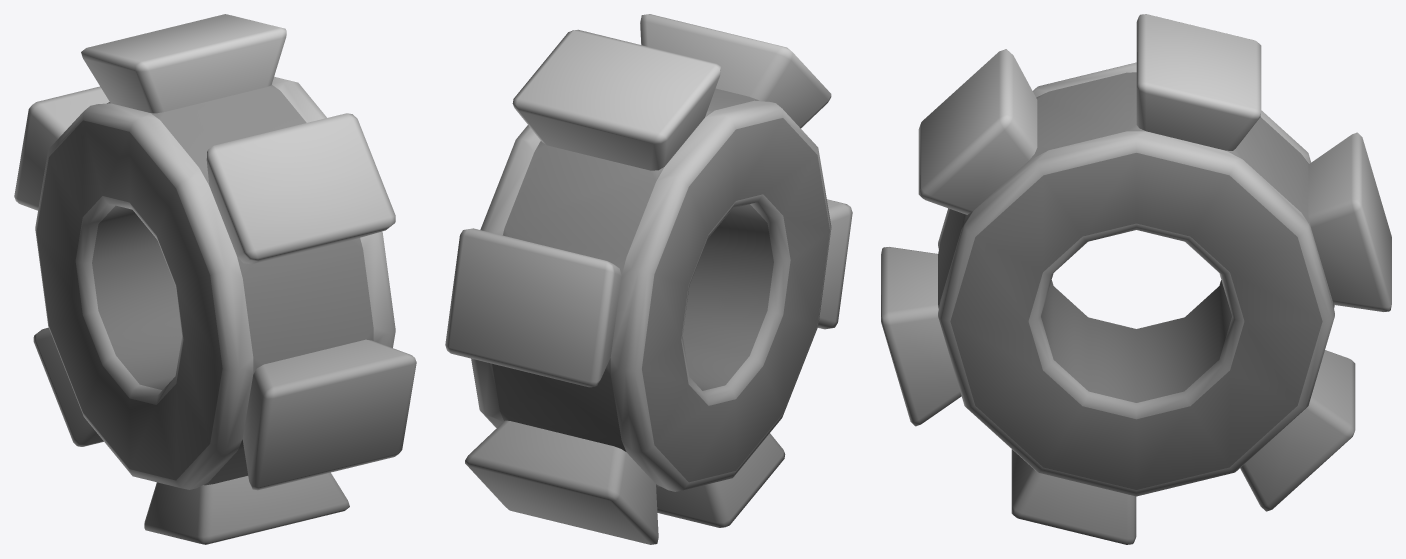
The model's file is Gear_V1_00.fbx.
3 renders of one model, left to right at view 1: azimuth 30°, elevation 25°; view 2: azimuth 150°, elevation 25°; view 3: azimuth 270°, elevation 25°, orthographic.
Visible parts, largest first — view 1: Gear_V1_00; view 2: Gear_V1_00; view 3: Gear_V1_00.
Boxes of the visible parts, x1=… form: Gear_V1_00: x1=14, y1=14, x2=416, y2=544; Gear_V1_00: x1=445, y1=14, x2=852, y2=544; Gear_V1_00: x1=881, y1=14, x2=1391, y2=544.
Size of the model in its own units: 15.29 by 39.36 by 39.36.
